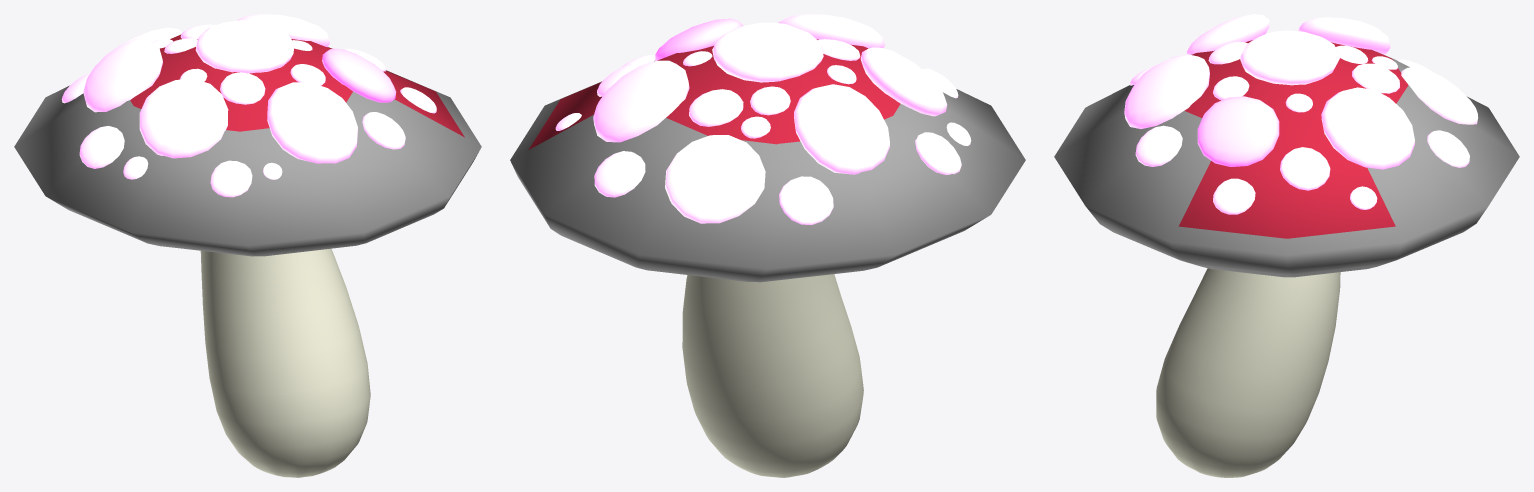
File: mushroom.fbx
The picture shows the model from 3 angles, left to right: view 1: azimuth 30°, elevation 25°; view 2: azimuth 150°, elevation 25°; view 3: azimuth 270°, elevation 25°; orthographic projection. The views are drawn at different scales.
Visible parts, largest first — view 1: Circle.004, Circle, Circle.001, Cube.002, Cube.004, Cube.003, Cube, Cube.001, Cube.007, Cube.006, Cube.015, Cube.019 (+3 smaller); view 2: Circle.004, Circle, Circle.001, Cube.005, Cube, Cube.006, Cube.003, Cube.004, Cube.008, Cube.002, Cube.009, Cube.001 (+4 smaller); view 3: Circle.004, Circle, Circle.001, Cube.006, Cube.001, Cube.003, Cube.002, Cube.005, Cube, Cube.004, Cube.011, Cube.013 (+6 smaller).
Boxes of the visible parts, x1,y1,x2,y2 form: Circle.004: (14,70,481,256); Circle: (200,248,370,477); Circle.001: (130,34,464,137); Cube.002: (267,82,357,163); Cube.004: (139,78,228,158); Cube.003: (195,20,294,73); Cube: (83,39,162,112); Cube.001: (322,48,396,102); Cube.007: (79,126,124,168); Cube.006: (237,14,329,47); Cube.015: (210,160,252,197); Cube.019: (220,72,265,104); Circle.004: (510,81,1025,282); Circle: (682,274,863,477); Circle.001: (528,39,900,149); Cube.005: (665,135,765,223); Cube: (794,84,889,174); Cube.006: (593,60,689,142); Cube.003: (712,22,823,82); Cube.004: (860,47,947,116); Cube.008: (779,176,833,224); Cube.002: (778,14,884,48); Cube.009: (594,151,645,197); Cube.001: (655,18,743,60); Circle.004: (1054,52,1519,277); Circle: (1156,268,1340,477); Circle.001: (1178,40,1408,238); Cube.006: (1321,87,1414,169); Cube.001: (1197,96,1279,166); Cube.003: (1240,30,1339,85); Cube.002: (1124,54,1209,128); Cube.005: (1401,67,1478,124); Cube: (1298,17,1390,54); Cube.004: (1186,14,1269,54); Cube.011: (1280,147,1330,190); Cube.013: (1135,125,1182,166).
Bounding box in the file's own units: 7.89 × 7.86 × 7.89.
